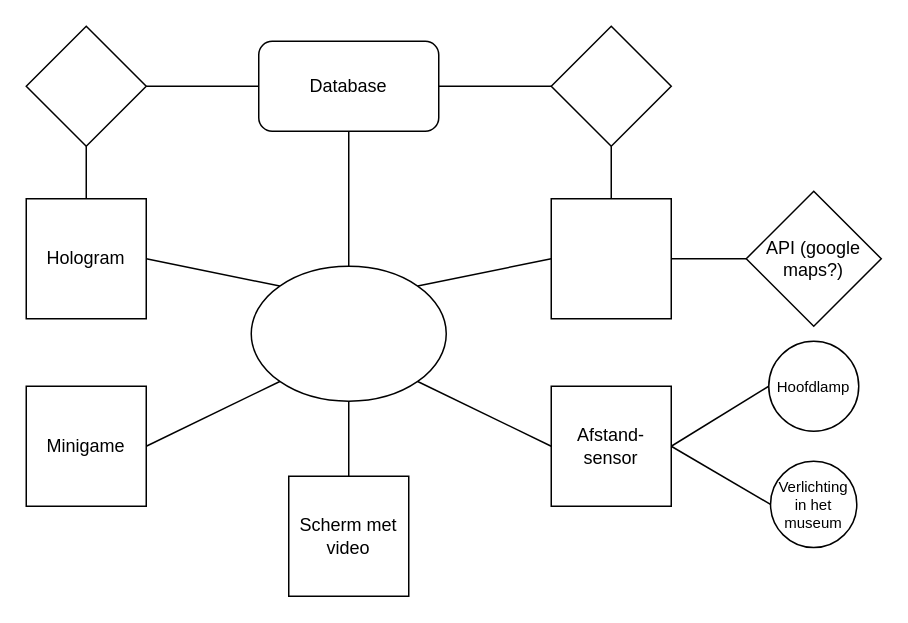
Image size: 908x623. Some labels were removed from this diagram. The shapes that lost their labels are listed below. From the top down, each one's centre as x and y in pixels, then its label:
point 85,85: Hologram images
point 610,85: Lijst met bedrijven
point 610,258: Interactieve kaart
point 348,333: Centrale Applicatie (het museum)
